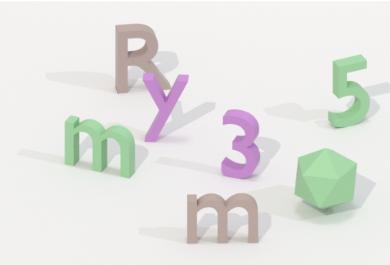0-TronCanh: (288, 143, 361, 216)
3: (218, 106, 263, 181)
5: (325, 51, 375, 133)
R: (112, 18, 174, 98)
m: (62, 113, 141, 182), (182, 188, 263, 249)
y: (140, 69, 191, 146)
